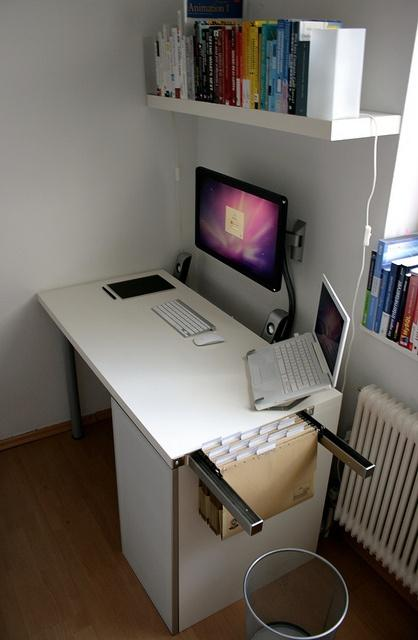AIO PC-Monitor-TV: (192, 164, 288, 292)
Meja: (35, 268, 344, 477)
